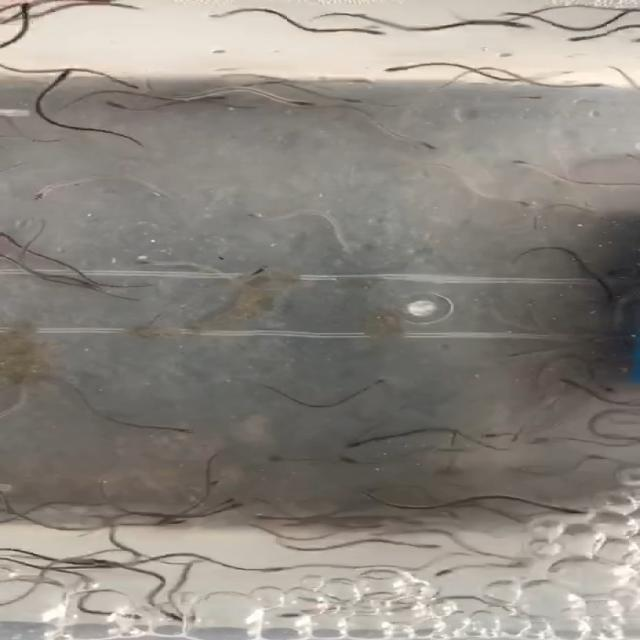active_glass_eel: (130, 252, 189, 273), (422, 560, 472, 583), (488, 13, 545, 33), (335, 23, 392, 42), (240, 203, 286, 226), (359, 378, 406, 399), (471, 182, 518, 199), (408, 537, 455, 554), (210, 465, 254, 481), (409, 138, 448, 156), (5, 0, 46, 17), (21, 183, 54, 204), (484, 425, 517, 446), (507, 157, 545, 173), (162, 419, 194, 438), (62, 555, 93, 574), (245, 264, 290, 277), (350, 435, 384, 452), (576, 76, 612, 92), (333, 92, 373, 106), (151, 605, 180, 624), (380, 64, 419, 78), (93, 96, 127, 112), (279, 94, 316, 108), (207, 496, 242, 510), (69, 277, 109, 289), (36, 70, 70, 84), (110, 75, 146, 88), (180, 609, 209, 625), (560, 500, 587, 517), (257, 566, 298, 575), (568, 432, 593, 446), (514, 89, 538, 103)
